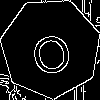O: (25, 23, 75, 78)
